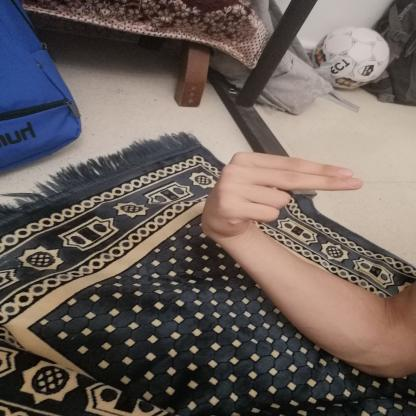AYN: (186, 143, 375, 251)
